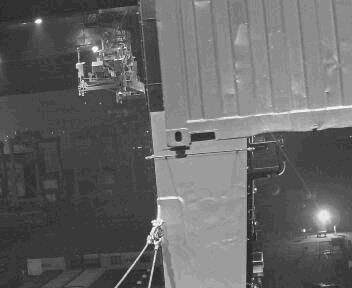twist_lock_1: (223, 126, 239, 145)
